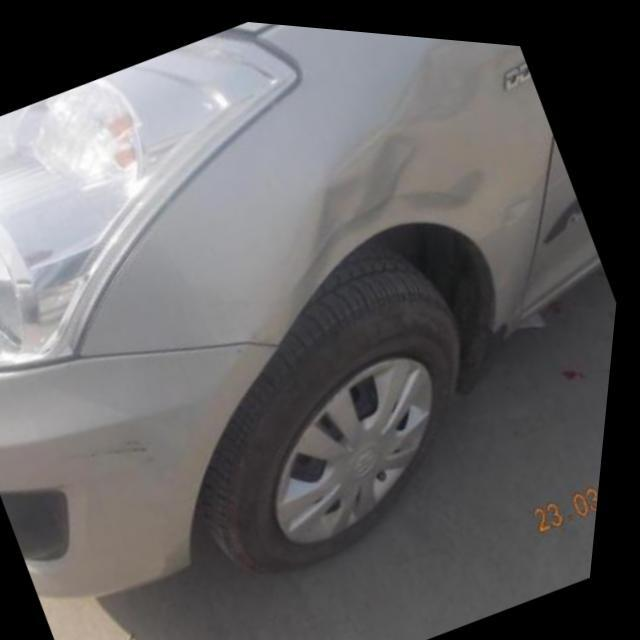dent: (305, 53, 489, 274)
scratch: (84, 436, 161, 459)
